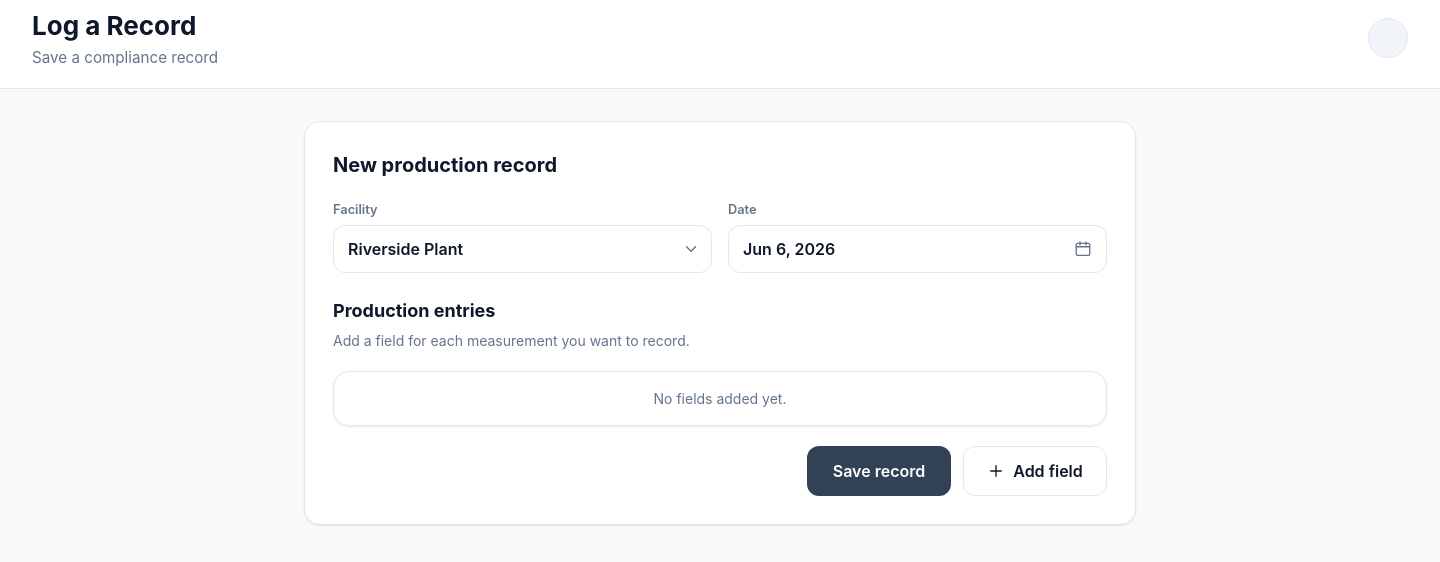
Test: LogRecordScreen — save › posts the chosen Facility, date and numeric value under the field’s PropertyName
Expected: the button with aria-label "Facility" reads "Riverside Plant", [333, 225, 712, 273]
Click the button "Add field": (1035, 471) [963, 446, 1107, 496]
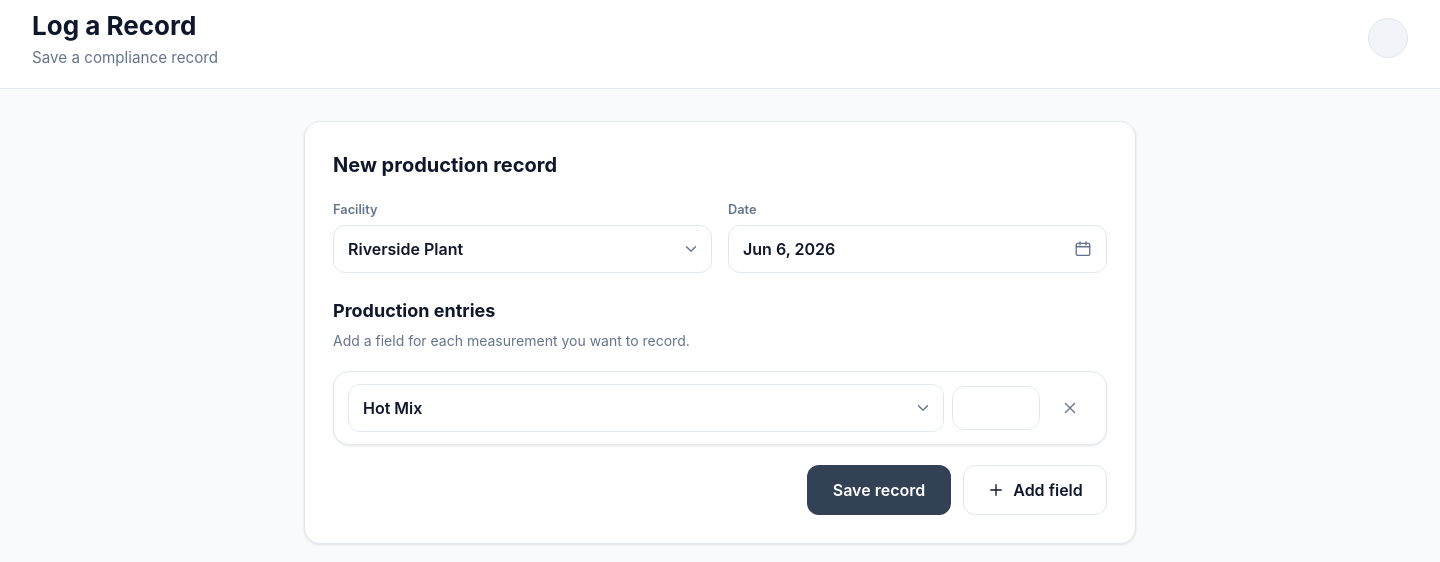
In the number field named "Hot Mix value": (996, 408) [952, 386, 1040, 430], type "1240"
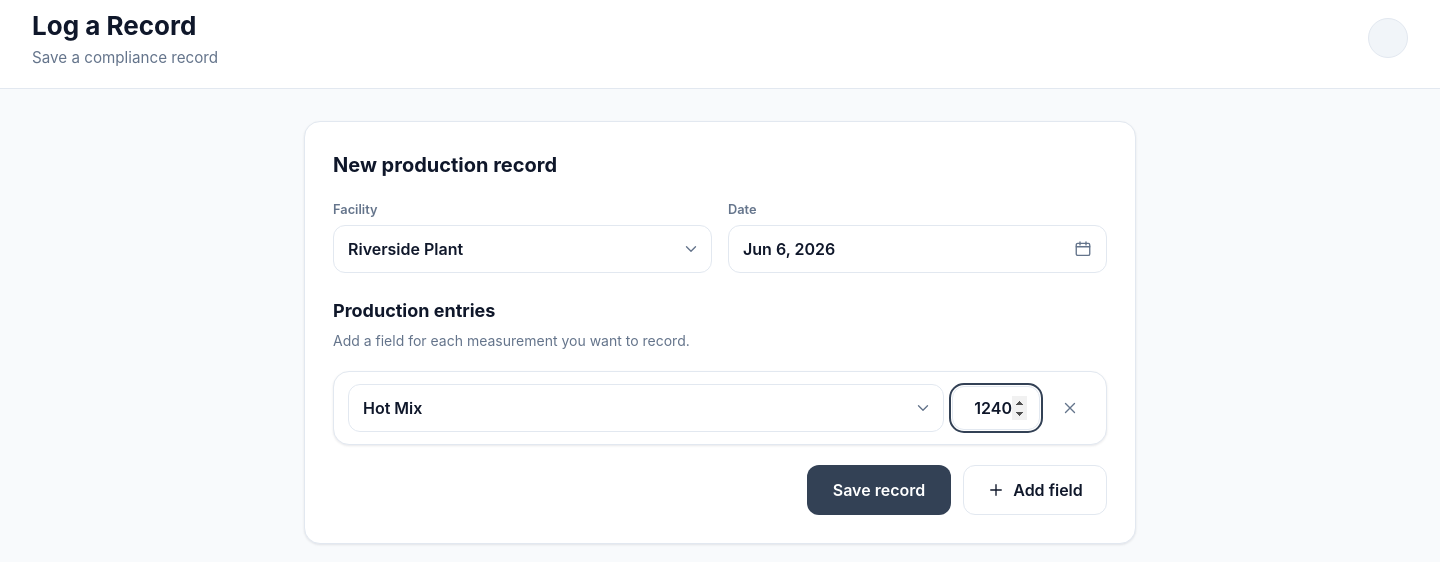
Click the button "Save record": (879, 490) [807, 465, 951, 515]
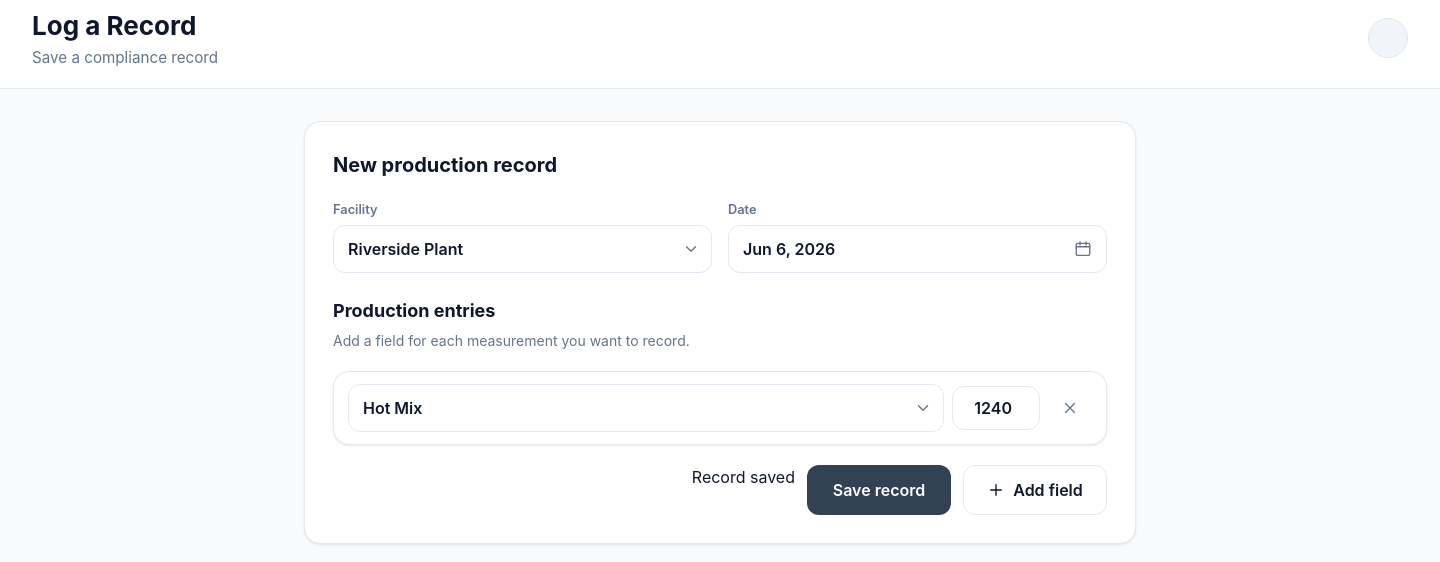
Result: the text "Record saved" is shown at [692, 467, 795, 487]
